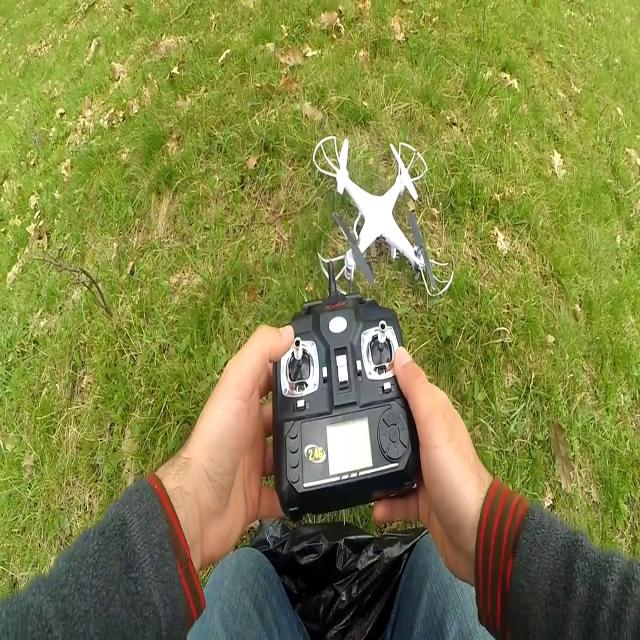drones: (306, 121, 458, 306)
